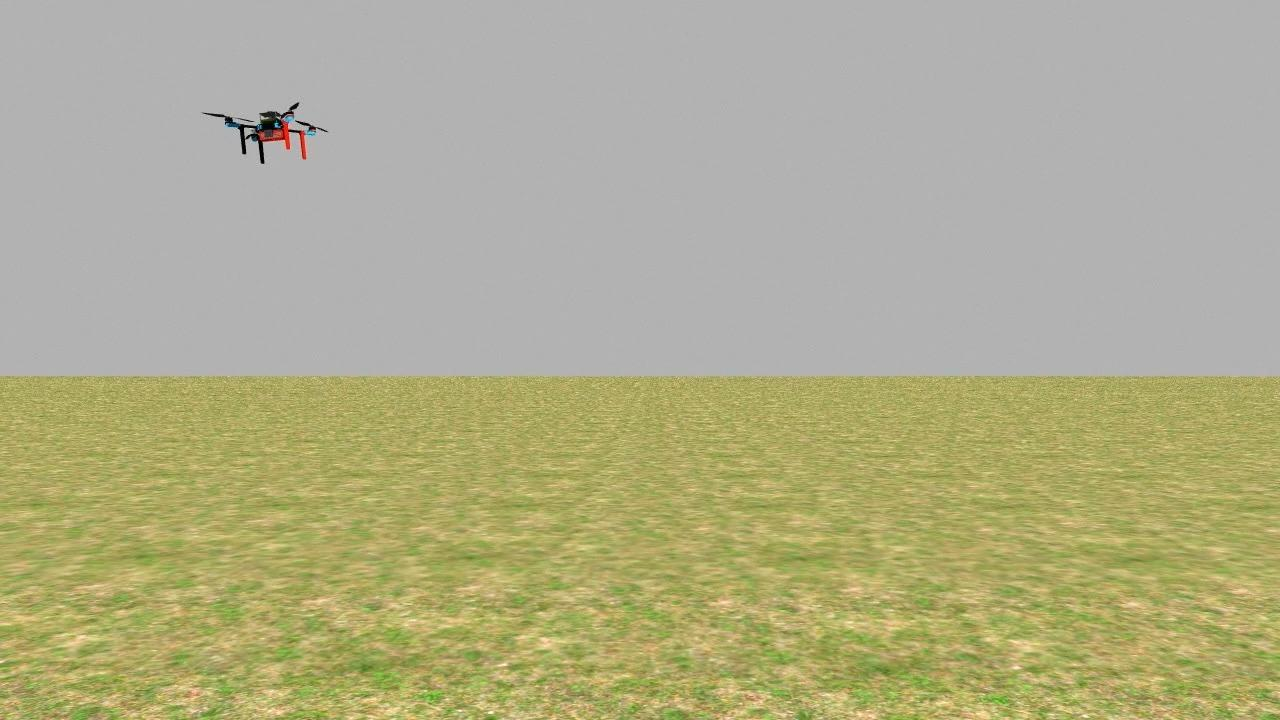UAV: (196, 84, 342, 174)
